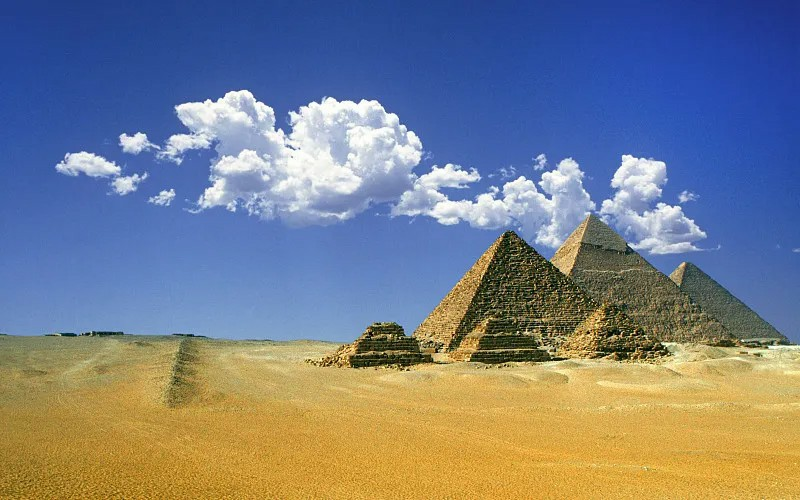Pyramid: (551, 217, 741, 346), (414, 231, 603, 347), (669, 260, 790, 343), (563, 304, 671, 360), (452, 312, 551, 363), (331, 321, 432, 364)
